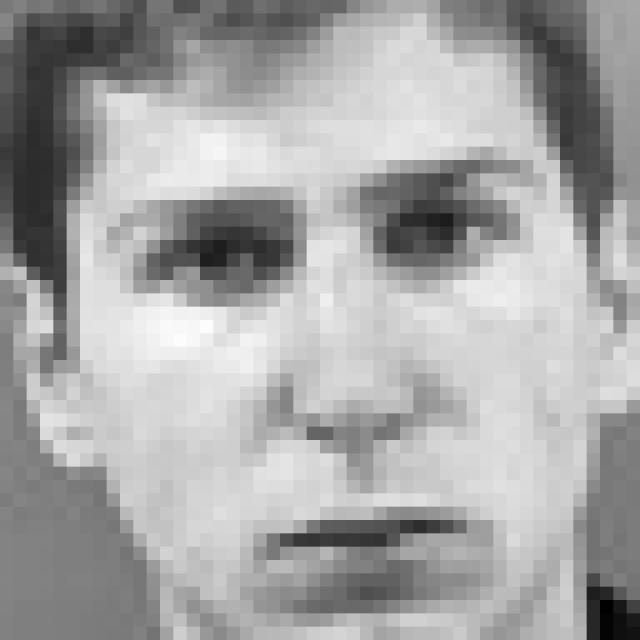neutral: (97, 138, 554, 600)
